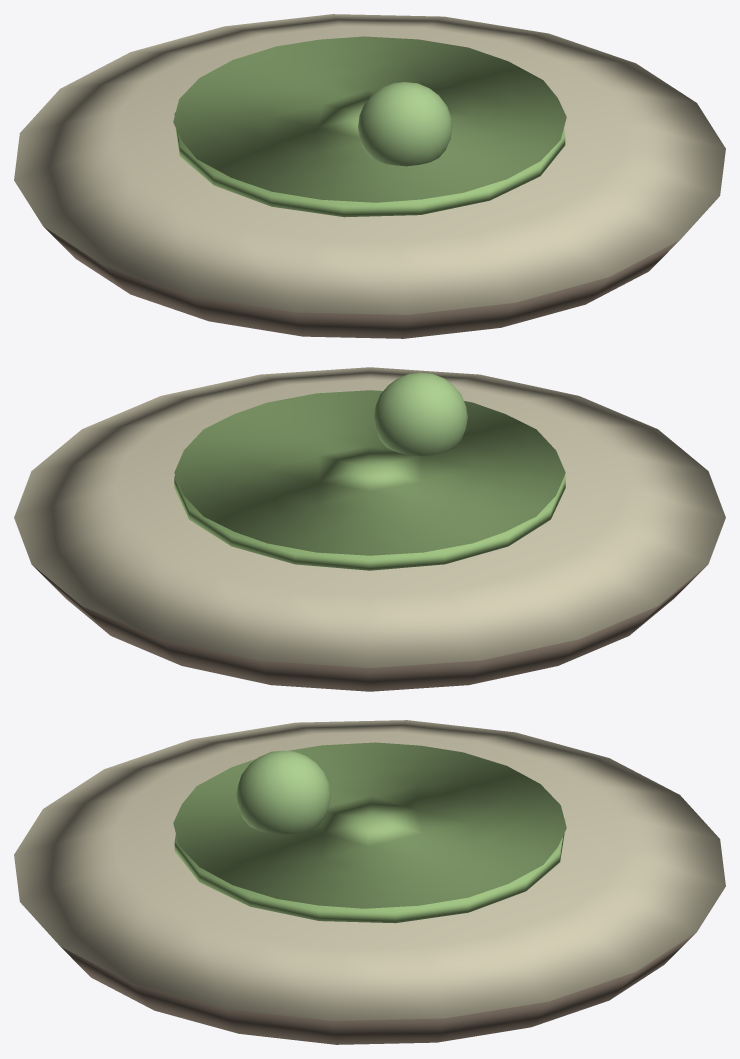
The model's file is terrain_island_08.glb.
3 renders of one model, top to bottom at view 1: azimuth 30°, elevation 25°; view 2: azimuth 150°, elevation 25°; view 3: azimuth 270°, elevation 25°, orthographic.
Visible parts, largest first — view 1: island_sand, island_grass_dome, island_base, hill0, island_grass_base; view 2: island_sand, island_grass_dome, island_base, hill0, island_grass_base; view 3: island_sand, island_grass_dome, island_base, hill0, island_grass_base.
Part boxes in pixels (x1,y1,x2,y2): island_sand: (14, 14, 725, 314); island_grass_dome: (173, 36, 566, 202); island_base: (43, 226, 679, 338); hill0: (358, 82, 452, 166); island_grass_base: (174, 112, 565, 217); island_sand: (14, 367, 725, 667); island_grass_dome: (174, 390, 565, 555); island_base: (32, 565, 707, 691); hill0: (374, 372, 467, 455); island_grass_base: (174, 475, 565, 570); island_sand: (14, 720, 725, 1020); island_grass_dome: (173, 742, 566, 908); island_base: (60, 932, 696, 1044); hill0: (236, 750, 330, 834); island_grass_base: (174, 818, 565, 923).
Size of the model in its own units: 99.45 by 23.24 by 99.45.
